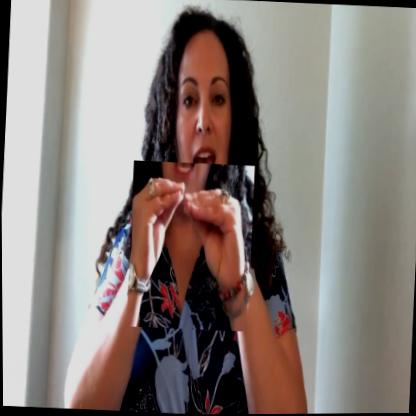Fix: (124, 160, 255, 332)
